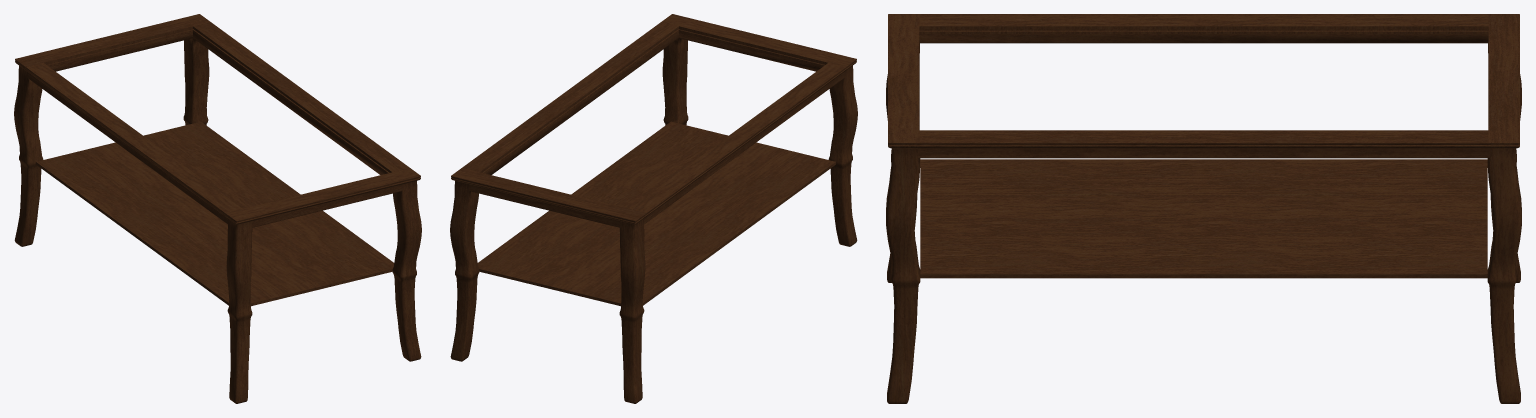
The model's file is antique_table_exp-v2.glb.
The picture shows the model from 3 angles, left to right: view 1: azimuth 30°, elevation 25°; view 2: azimuth 150°, elevation 25°; view 3: azimuth 270°, elevation 25°; orthographic projection. The views are drawn at different scales.
Parts seen in each view (by area): view 1: Small_table_2; view 2: Small_table_2; view 3: Small_table_2.
Boxes of the visible parts, x1,y1,x2,y2 form: Small_table_2: (14, 14, 421, 403); Small_table_2: (450, 14, 857, 403); Small_table_2: (886, 14, 1521, 403).
Bounding box in the file's own units: 0.7266 × 0.6811 × 1.5.
Materials: 2 (1 with a texture image).
